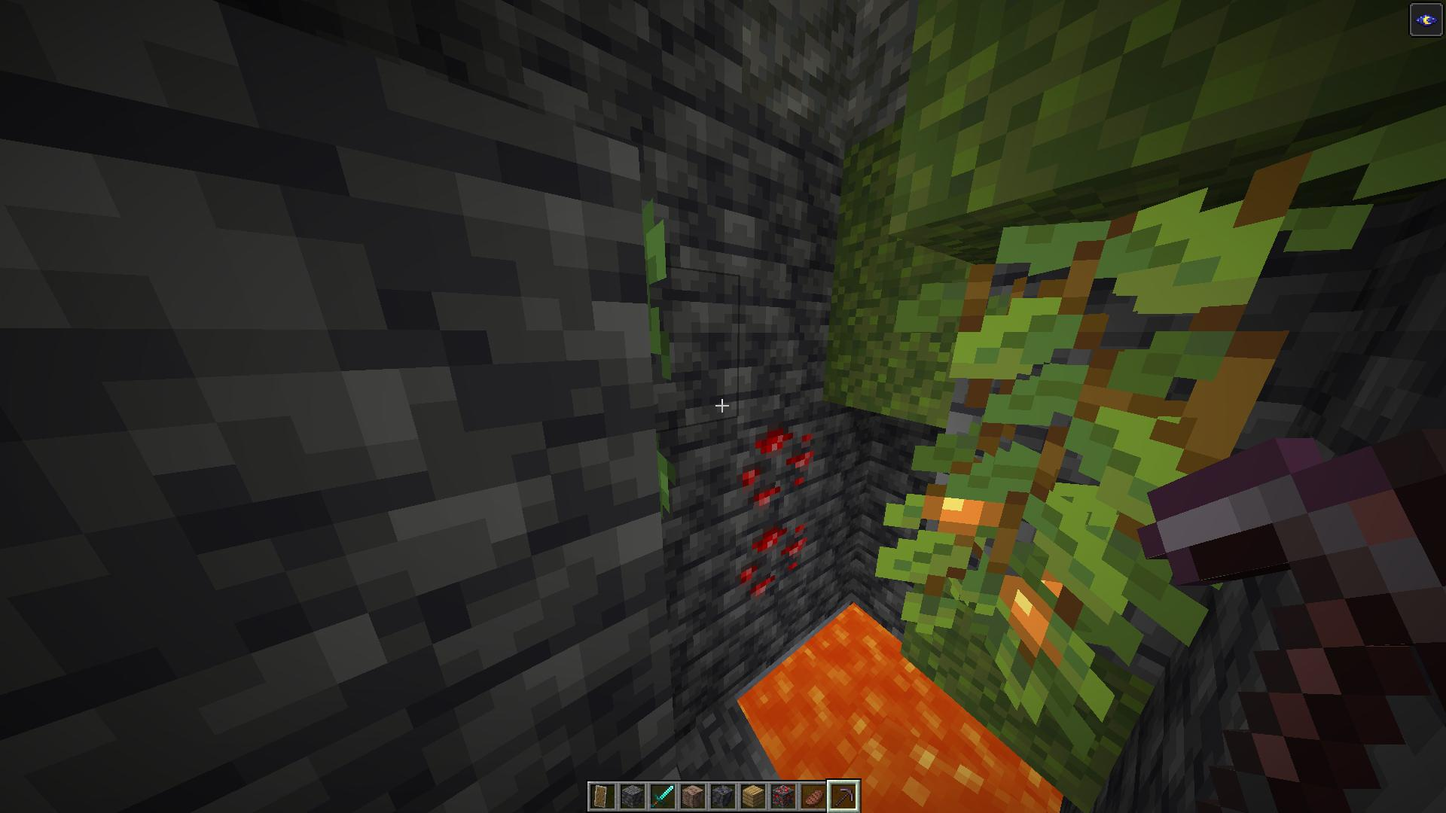redstone ore: (734, 511, 822, 600), (735, 418, 821, 507)
